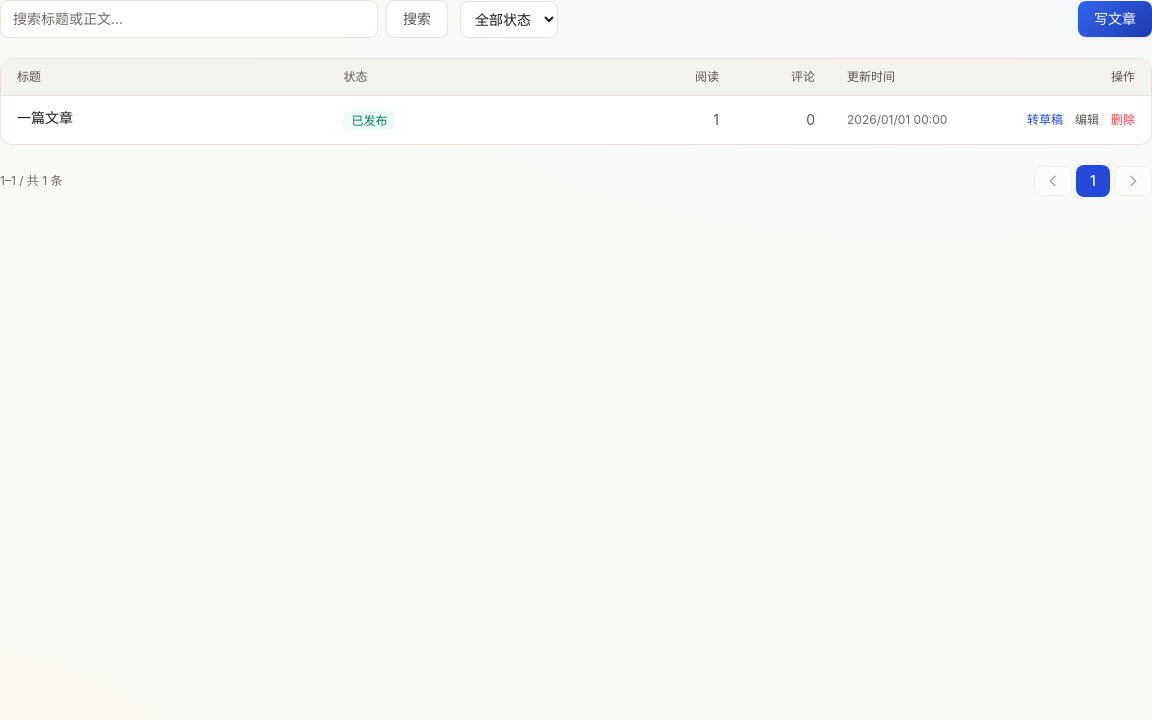
ArticleListView · 删除 › 点「删除」只打开确认框，一个请求都不发
What coordinates should you click on to do the following:
click the button "删除"
I would click on:
 (1123, 120)
Its box is [1111,112,1135,128].
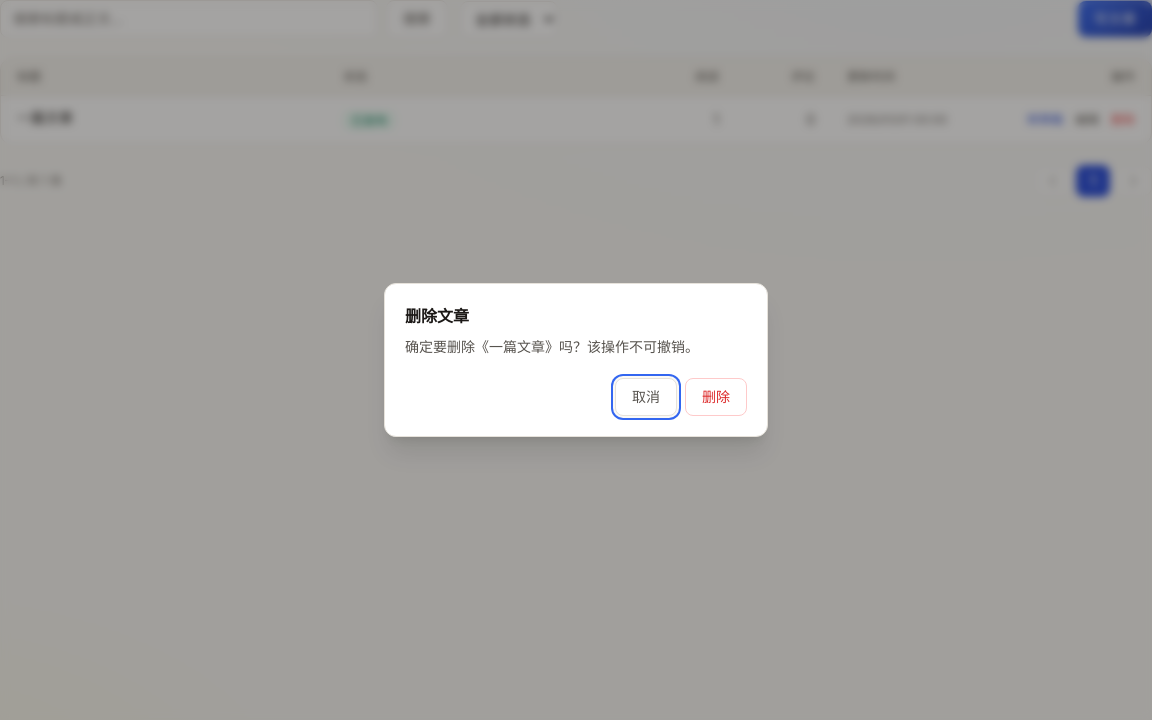
Expected: the dialog shows "《一篇文章》", [405,338,699,355]
